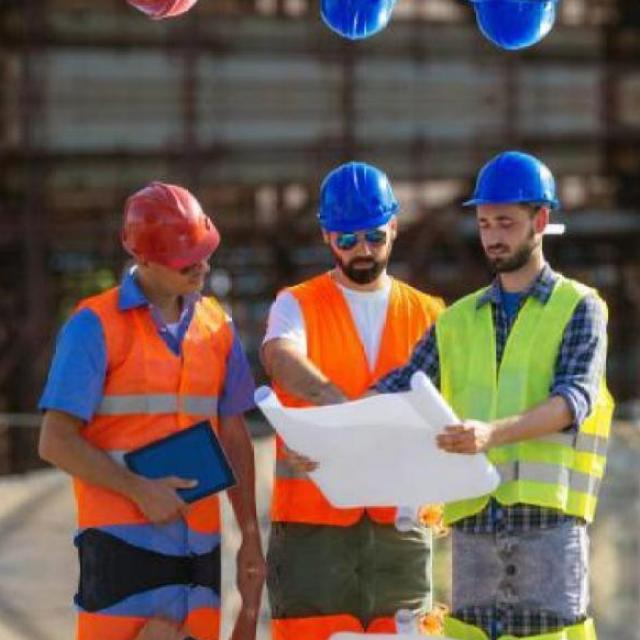helmet: (121, 180, 220, 270), (292, 0, 408, 55), (461, 0, 566, 60), (90, 0, 235, 41), (316, 161, 398, 232), (461, 149, 558, 209)
